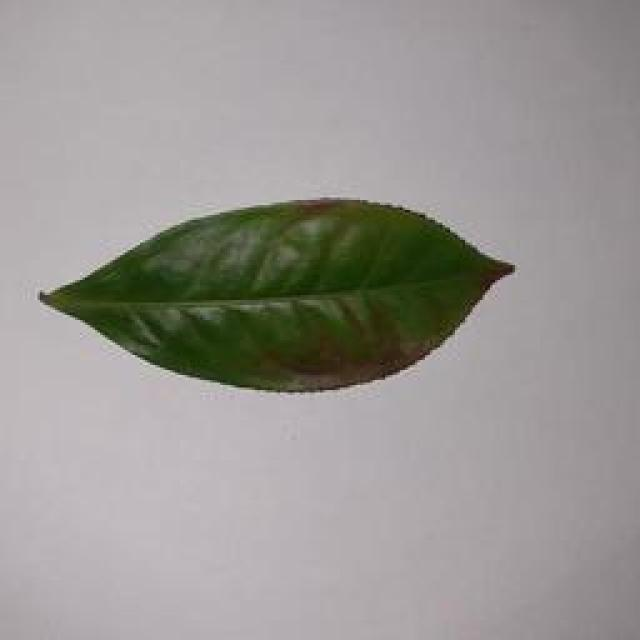Red Leaf Spot: (0, 210, 540, 409)
